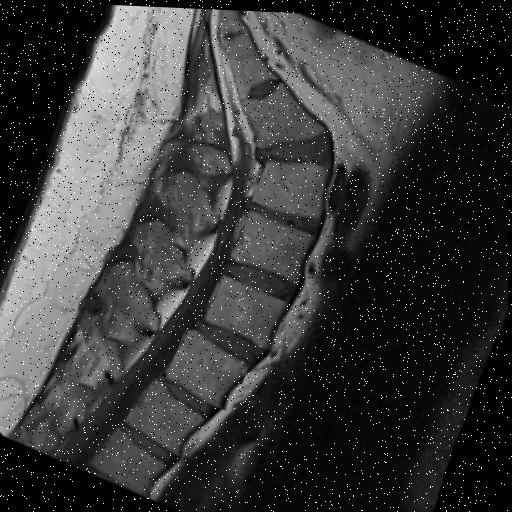L1: (126, 378, 205, 451)
L2: (166, 325, 248, 404)
L3: (205, 271, 288, 344)
L4: (231, 206, 315, 278)
L5: (251, 153, 328, 212)
S1: (241, 77, 323, 145)
